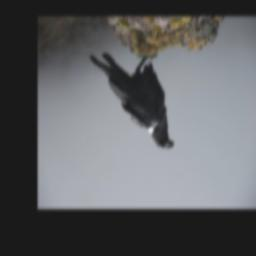Crow: (87, 48, 175, 154)
